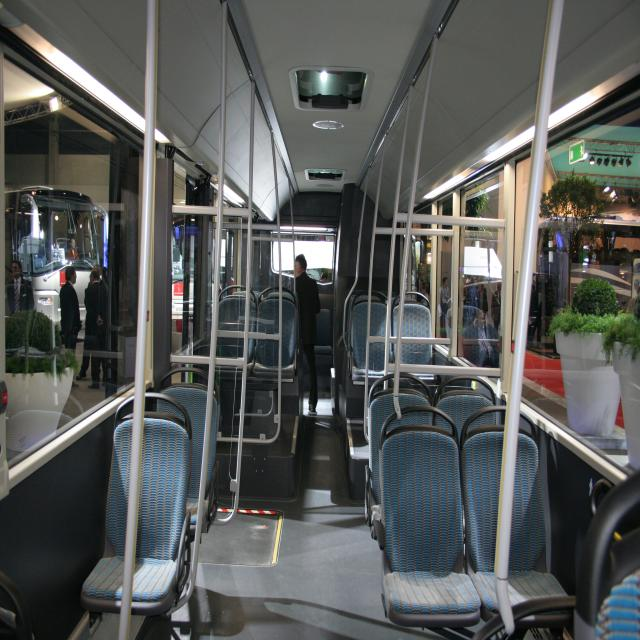empty-seat-frontal: (80, 392, 191, 608), (370, 408, 480, 622), (460, 413, 571, 619), (346, 293, 398, 387), (253, 289, 297, 382)
